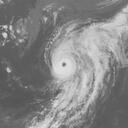cyclone: (43, 16, 118, 112)
